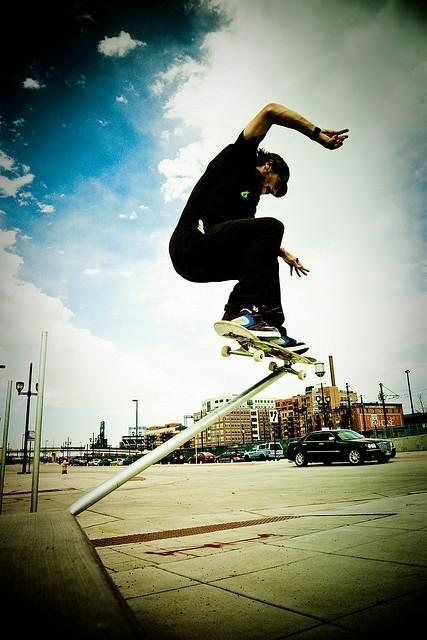car: (286, 429, 395, 468), (244, 443, 284, 462), (216, 452, 245, 464), (187, 452, 216, 464), (169, 450, 186, 464), (70, 454, 88, 466), (109, 455, 126, 467), (126, 456, 142, 465), (98, 458, 112, 466), (87, 458, 101, 466)
